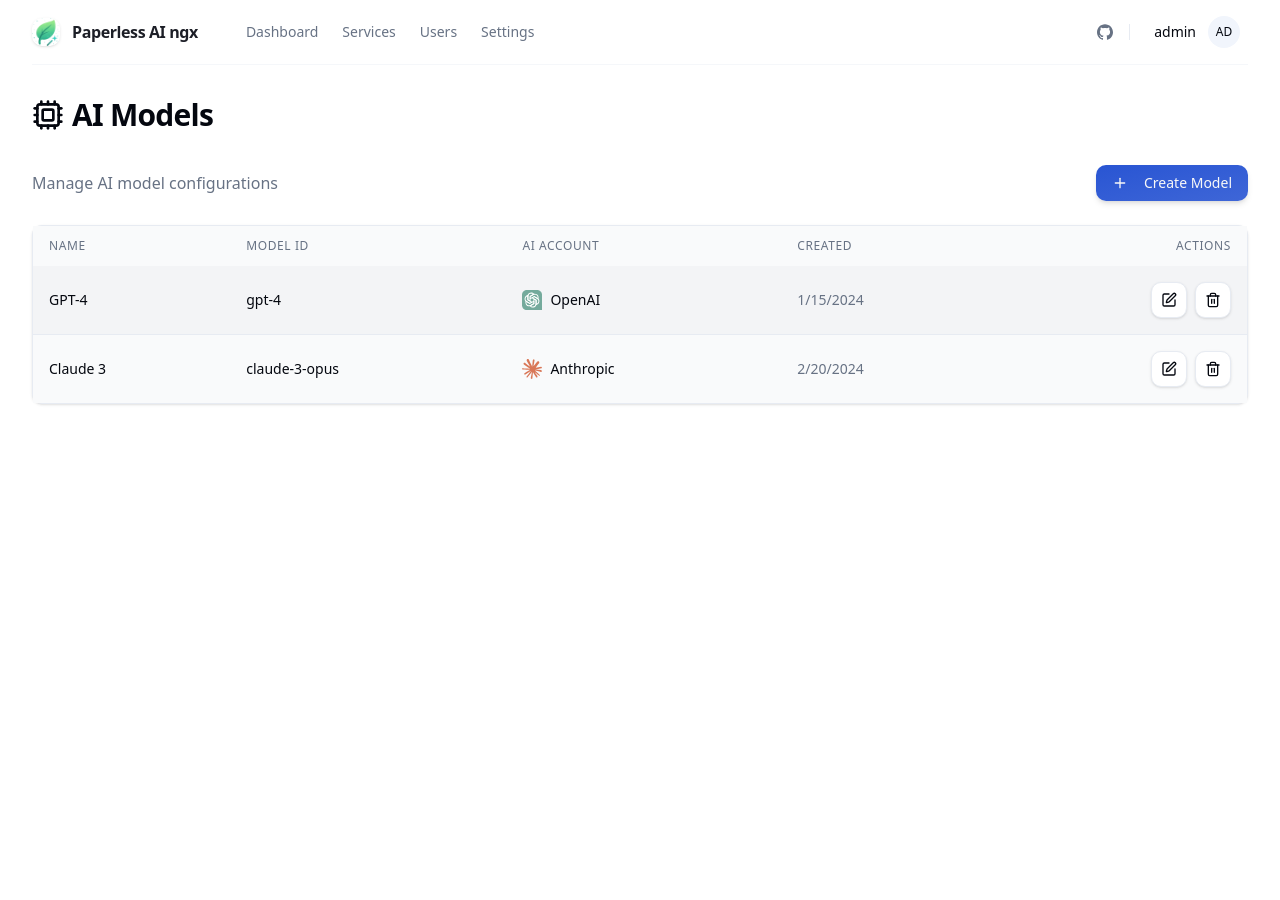
AiModelsPage › opens create dialog when clicking create button
Click the button "Create Model" at (1172,183), box [1096, 165, 1248, 201]
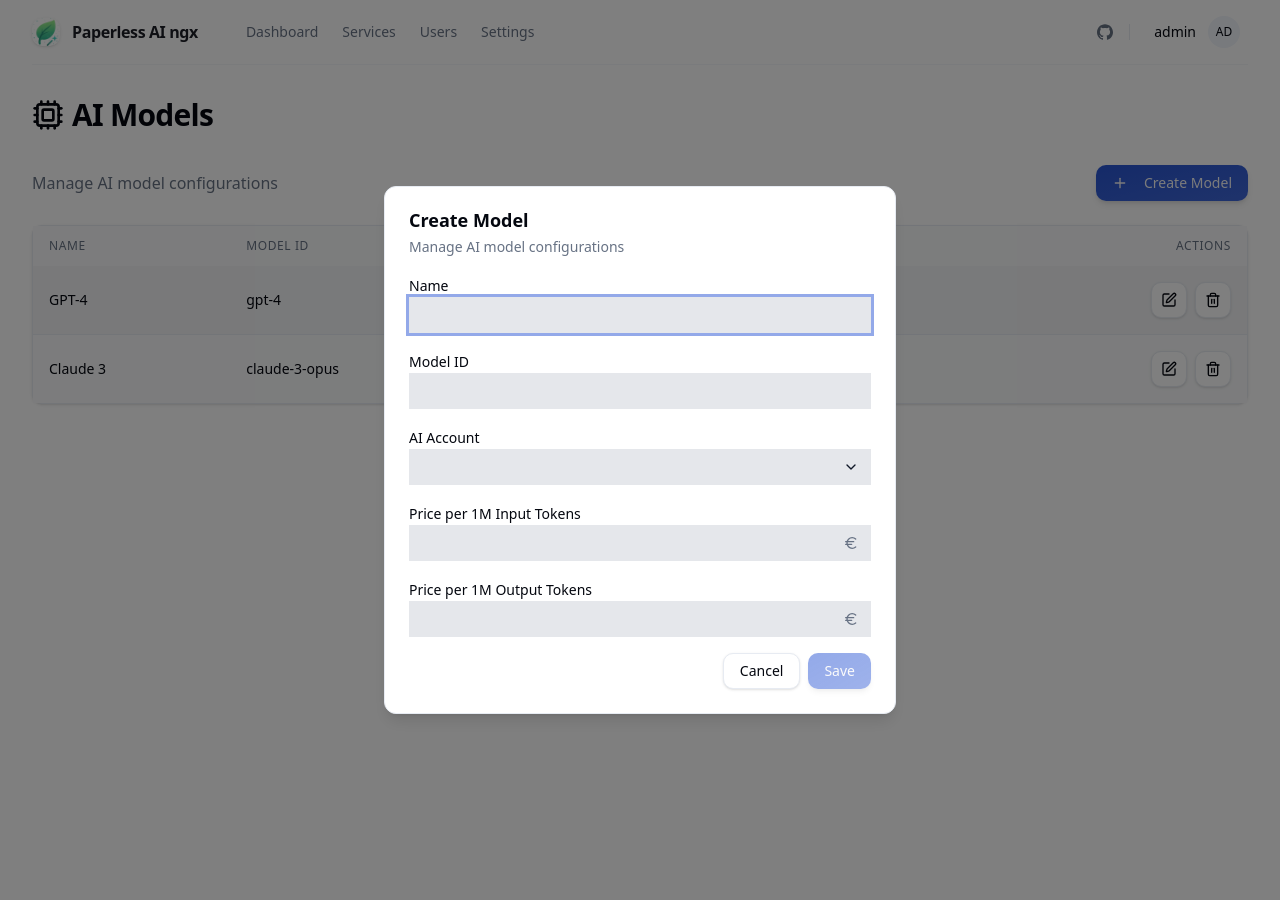
Now the dialog is shown, box [384, 186, 896, 714]
